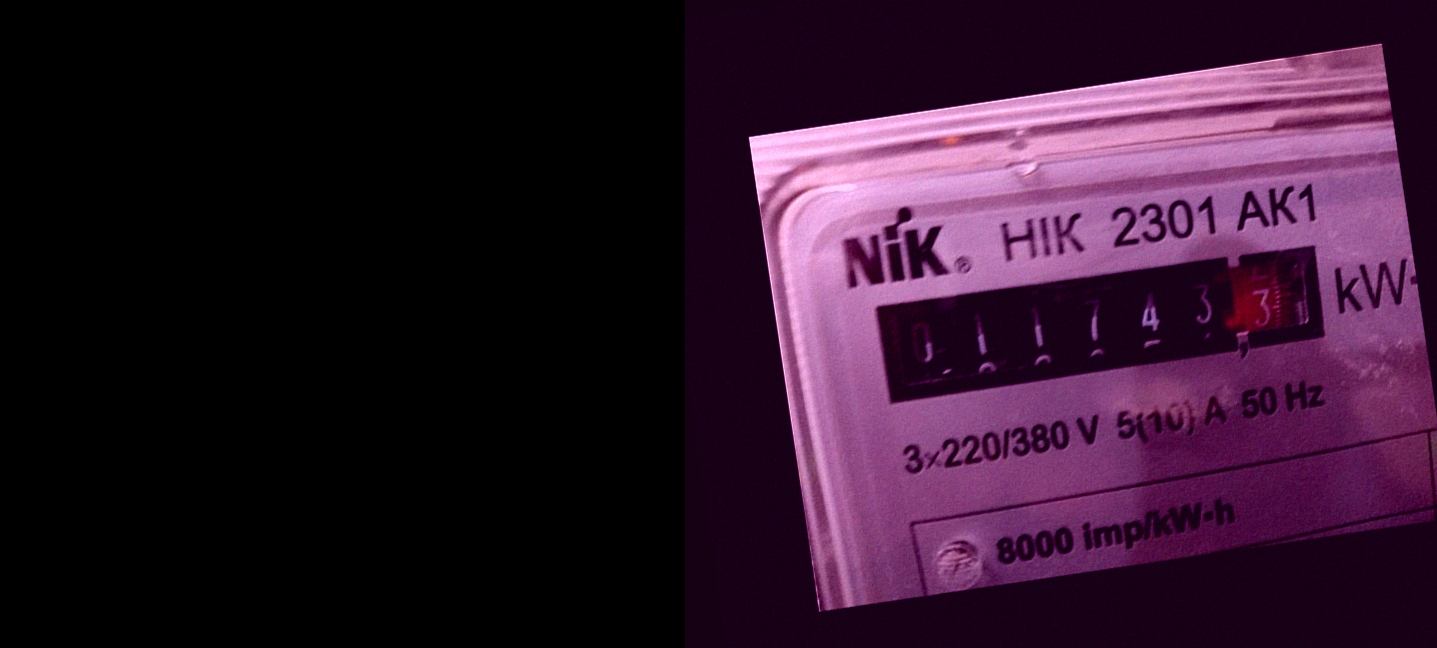0: (905, 316, 941, 367)
1: (1024, 301, 1052, 351), (970, 309, 994, 359)
3: (1187, 277, 1221, 328), (1248, 283, 1278, 330)
4: (1133, 284, 1168, 336)
7: (1080, 294, 1111, 345)
screen: (860, 230, 1338, 415)
